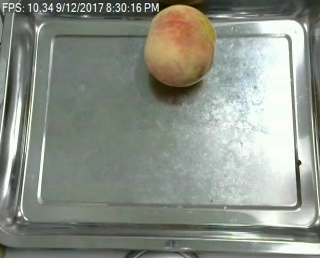Peach: (144, 3, 217, 87)
